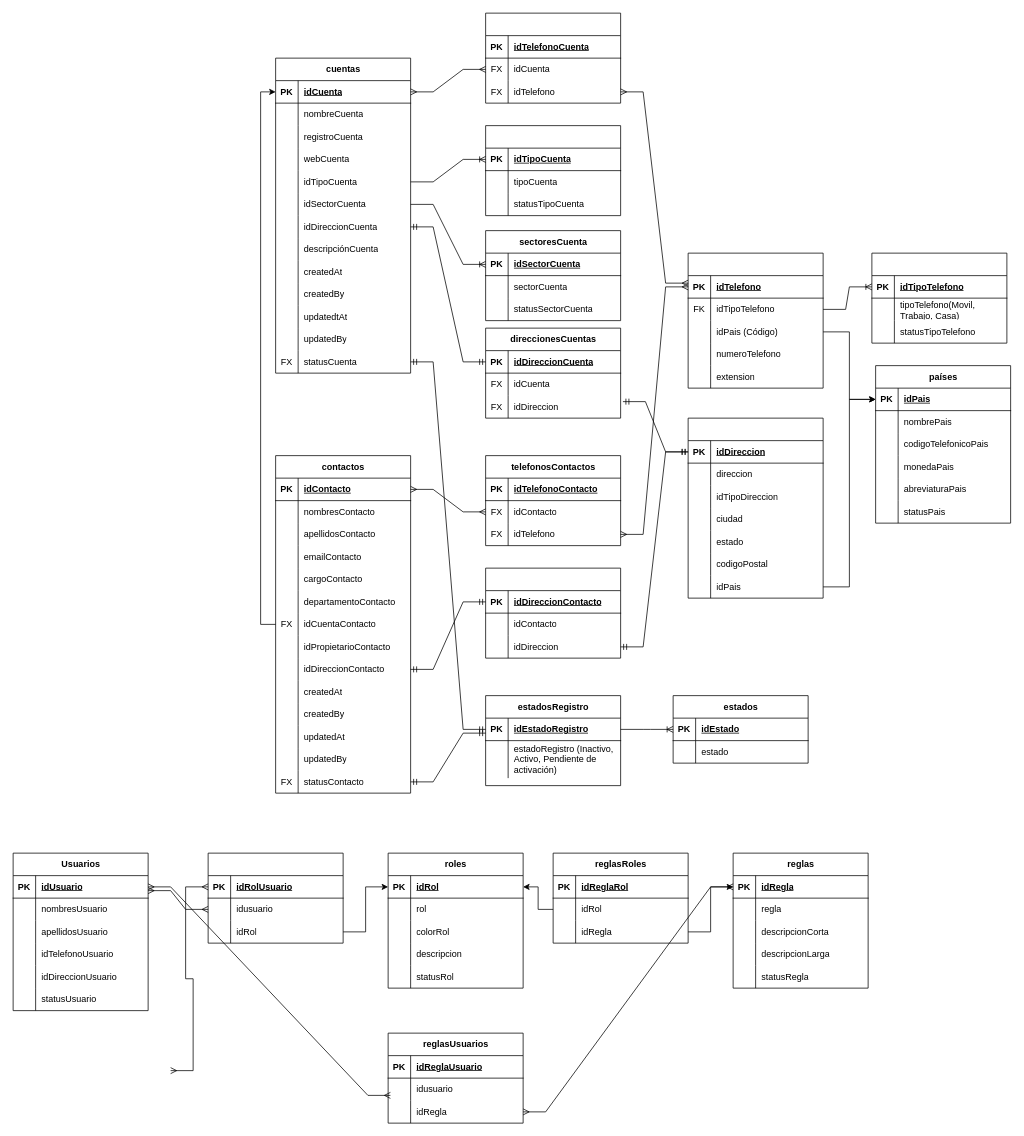
Image size: 1024x1136. Some labels were removed from this diagram. Each missing label, with the box of its shape:
direcciones: (687, 417, 823, 598)
direccionesContacto: (485, 567, 621, 658)
rolesUsuarios: (207, 852, 343, 943)
telefonos: (687, 252, 823, 388)
telefonosCuentas: (485, 12, 621, 103)
tiposCuenta: (485, 125, 621, 216)
tiposTelefono: (871, 252, 1007, 343)
